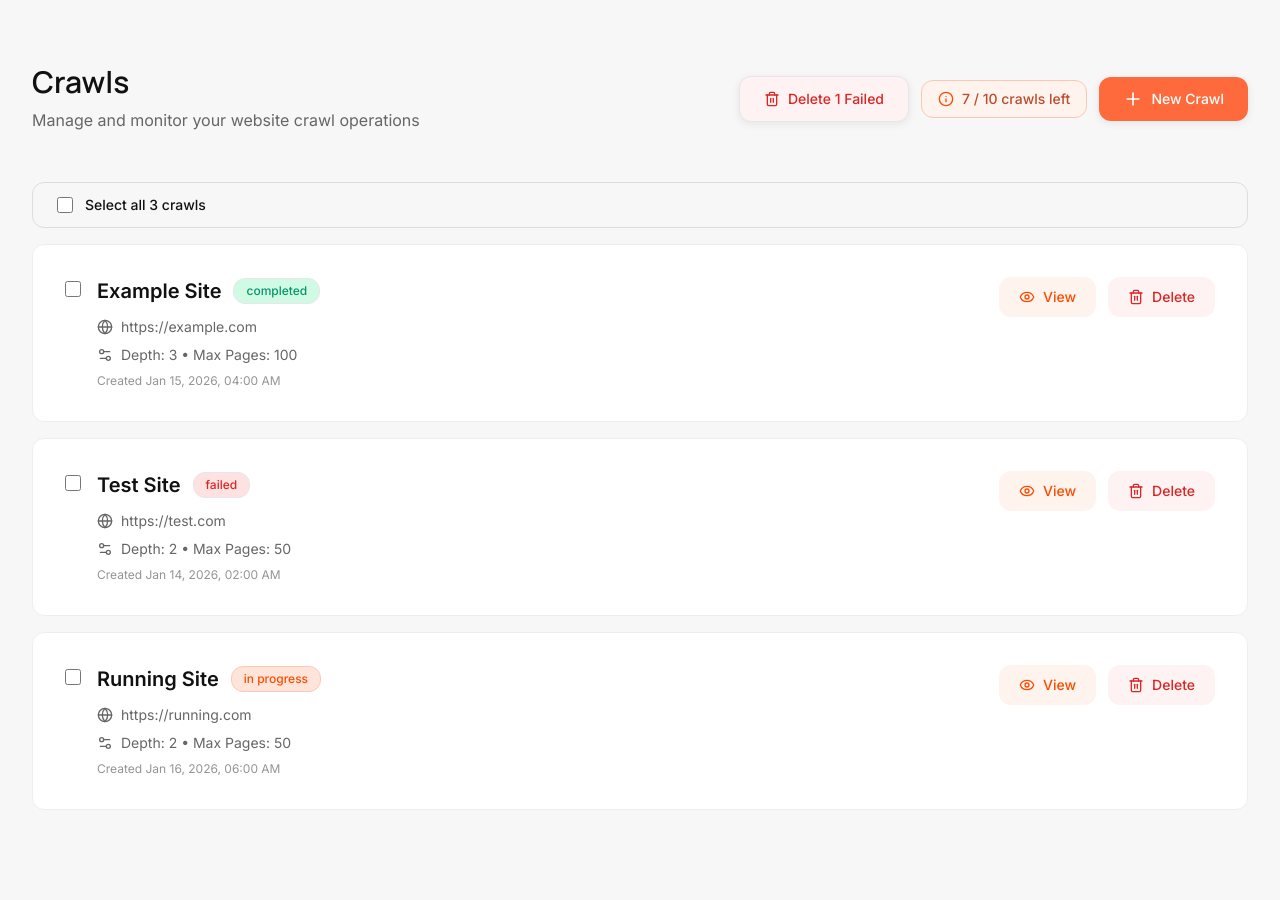
Test case: CrawlsPage › individual crawl selection shows bulk action buttons
The width and height of the screenshot is (1280, 900).
Expected: the link "Example Site" is shown, x1=97 y1=277 x2=222 y2=305
Click the checkbox named "Select crawl: Example Site" at [73, 289], box x1=65 y1=281 x2=81 y2=297
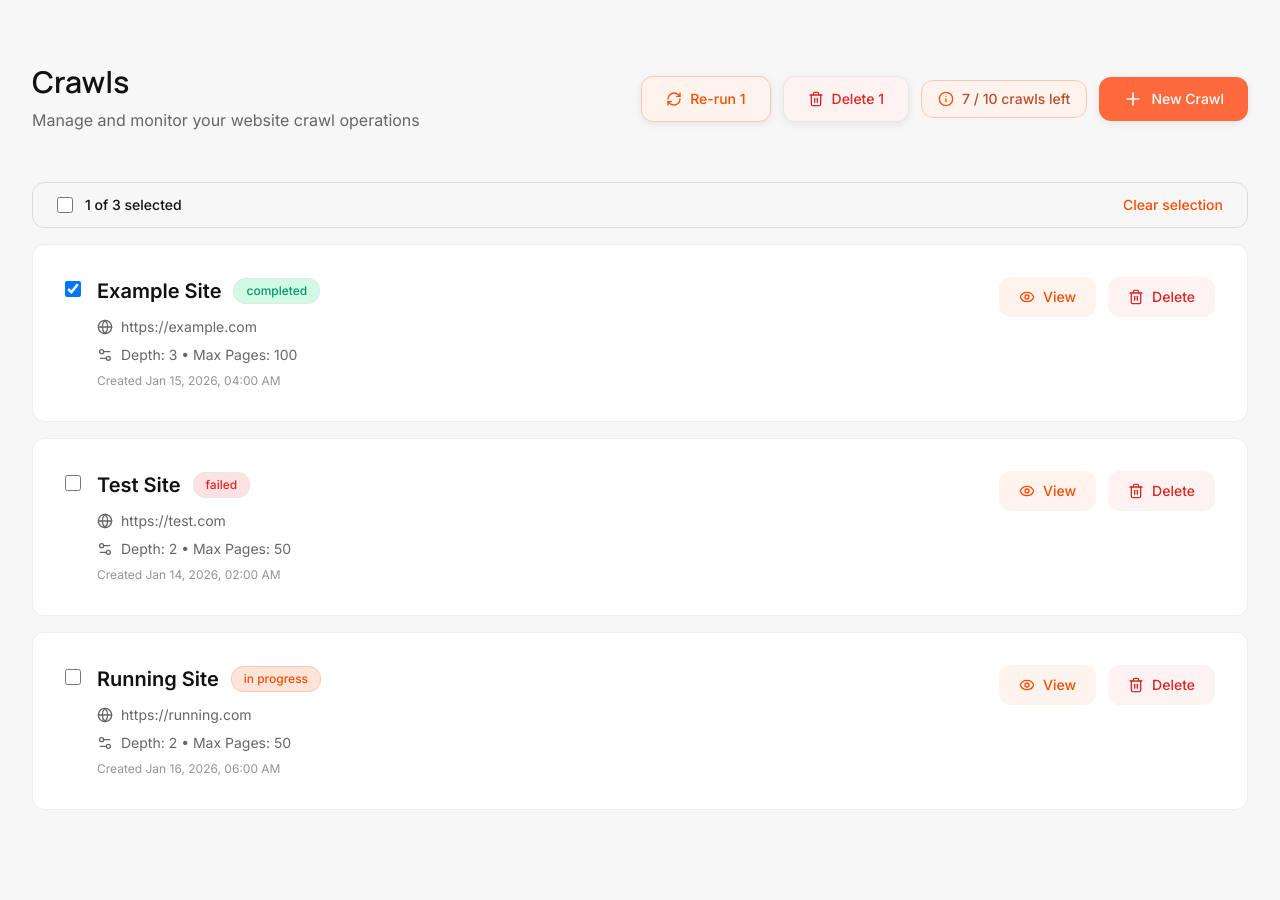
Expected: the button "Delete 1" is shown, x1=782 y1=76 x2=909 y2=122
Expected: the button "Re-run 1" is shown, x1=641 y1=76 x2=770 y2=122
